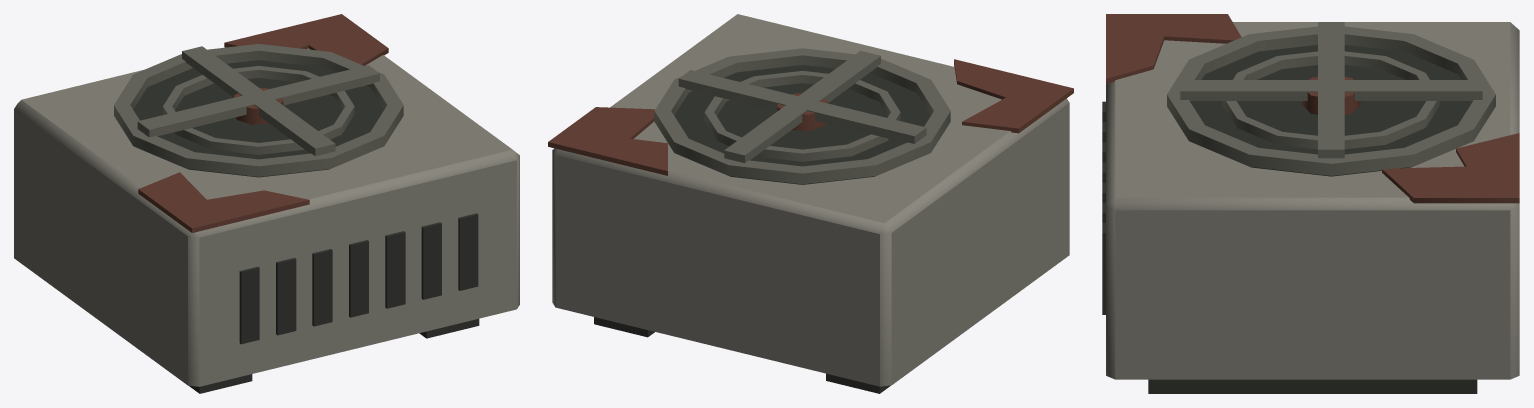
Rendered from ancient_ac.obj.
The picture shows the model from 3 angles, left to right: view 1: azimuth 30°, elevation 25°; view 2: azimuth 150°, elevation 25°; view 3: azimuth 270°, elevation 25°; orthographic projection. The views are drawn at different scales.
Visible parts, largest first — view 1: air_conditioner_housing, retained_80, retained_36, retained_408, retained_312, retained_176, retained_300, retained_428, retained_396, retained_384, retained_324, retained_372 (+6 smaller); view 2: air_conditioner_housing, retained_80, retained_36, retained_428, retained_408, retained_312, retained_176, retained_300, retained_0, retained_12, retained_272; view 3: air_conditioner_housing, retained_80, retained_36, retained_428, retained_300, retained_408, retained_176, retained_12, retained_312, retained_272, retained_396.
Part boxes in pixels (x1=…): air_conditioner_housing: x1=14, y1=48, x2=519, y2=386; retained_80: x1=114, y1=44, x2=403, y2=176; retained_36: x1=133, y1=60, x2=384, y2=177; retained_408: x1=138, y1=172, x2=309, y2=232; retained_312: x1=137, y1=65, x2=379, y2=137; retained_176: x1=163, y1=66, x2=354, y2=154; retained_300: x1=182, y1=46, x2=335, y2=156; retained_428: x1=224, y1=14, x2=388, y2=65; retained_396: x1=458, y1=213, x2=478, y2=290; retained_384: x1=421, y1=222, x2=441, y2=299; retained_324: x1=239, y1=266, x2=259, y2=344; retained_372: x1=385, y1=231, x2=405, y2=308; air_conditioner_housing: x1=552, y1=14, x2=1069, y2=386; retained_80: x1=654, y1=48, x2=950, y2=184; retained_36: x1=674, y1=65, x2=930, y2=184; retained_428: x1=548, y1=107, x2=667, y2=175; retained_408: x1=954, y1=59, x2=1073, y2=133; retained_312: x1=678, y1=70, x2=926, y2=143; retained_176: x1=704, y1=71, x2=900, y2=161; retained_300: x1=724, y1=51, x2=880, y2=163; retained_0: x1=826, y1=373, x2=890, y2=393; retained_12: x1=594, y1=317, x2=654, y2=337; retained_272: x1=777, y1=93, x2=827, y2=130; air_conditioner_housing: x1=1106, y1=22, x2=1519, y2=379; retained_80: x1=1167, y1=26, x2=1495, y2=175; retained_36: x1=1190, y1=45, x2=1472, y2=176; retained_428: x1=1382, y1=133, x2=1519, y2=203; retained_300: x1=1180, y1=80, x2=1482, y2=100; retained_408: x1=1106, y1=14, x2=1241, y2=83; retained_176: x1=1222, y1=51, x2=1440, y2=149; retained_12: x1=1148, y1=379, x2=1477, y2=393; retained_312: x1=1318, y1=22, x2=1344, y2=158; retained_272: x1=1302, y1=76, x2=1360, y2=114; retained_396: x1=1102, y1=223, x2=1105, y2=314.
Bounding box in the file's own units: 0.82 × 0.48 × 0.787.
